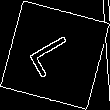L_NE: (25, 29, 85, 81)
